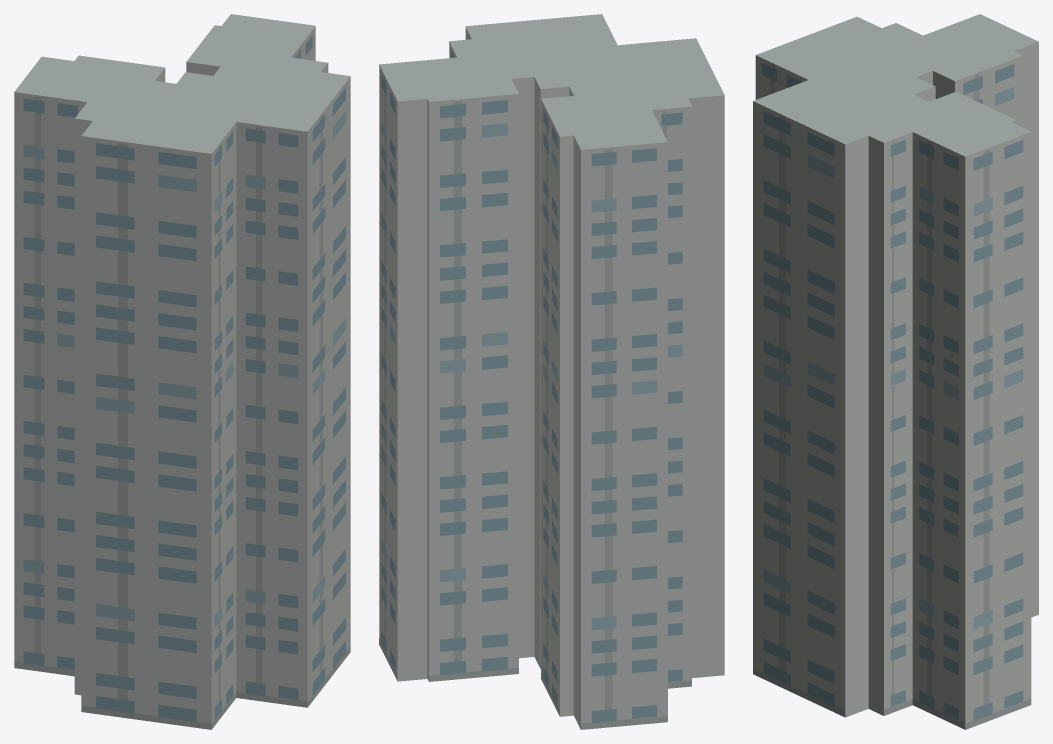
The model's file is residential-fda03f9a-c41d-4f85-92a3-b06267592820.glb.
3 renders of one model, left to right at view 1: azimuth 30°, elevation 25°; view 2: azimuth 150°, elevation 25°; view 3: azimuth 270°, elevation 25°, orthographic.
Parts seen in each view (by area): view 1: residential-fda03f9a-c41d-4f85-92a3-b06267592820.tmp; view 2: residential-fda03f9a-c41d-4f85-92a3-b06267592820.tmp; view 3: residential-fda03f9a-c41d-4f85-92a3-b06267592820.tmp.
Part boxes in pixels (x1,y1,x2,y2): residential-fda03f9a-c41d-4f85-92a3-b06267592820.tmp: [14, 14, 350, 729]; residential-fda03f9a-c41d-4f85-92a3-b06267592820.tmp: [379, 14, 724, 729]; residential-fda03f9a-c41d-4f85-92a3-b06267592820.tmp: [753, 14, 1038, 729].
Size of the model in its own units: 37.94 by 71 by 32.09.
